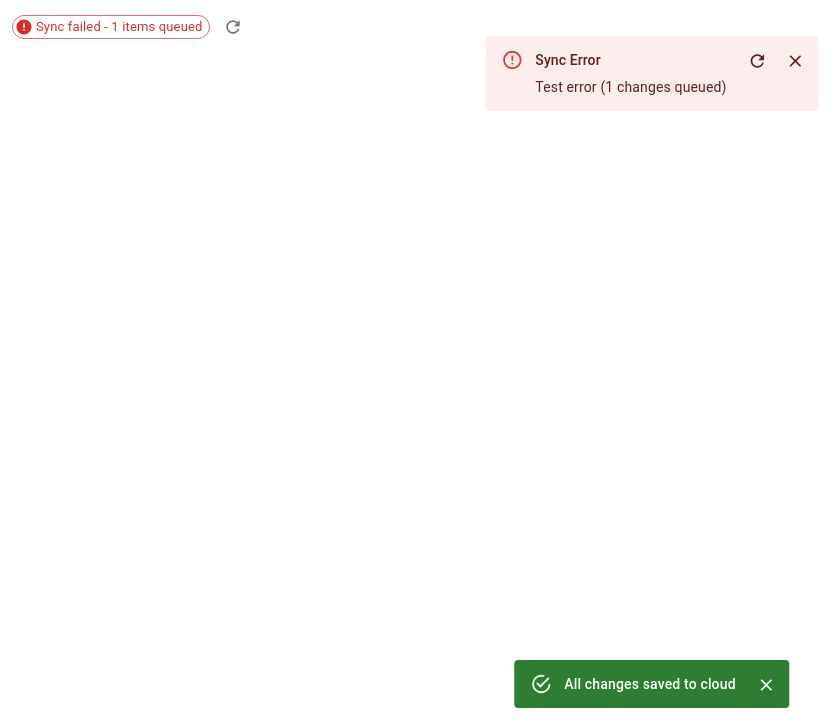
Test: SyncStatusIndicator › User Interactions › should dismiss error snackbar when close button is clicked
This screenshot has width=835, height=725.
Expected: the heading "Sync Error" is shown, [535,52,601,68]
Click the button named "Close" at (767,685), box [752,670,782,700]
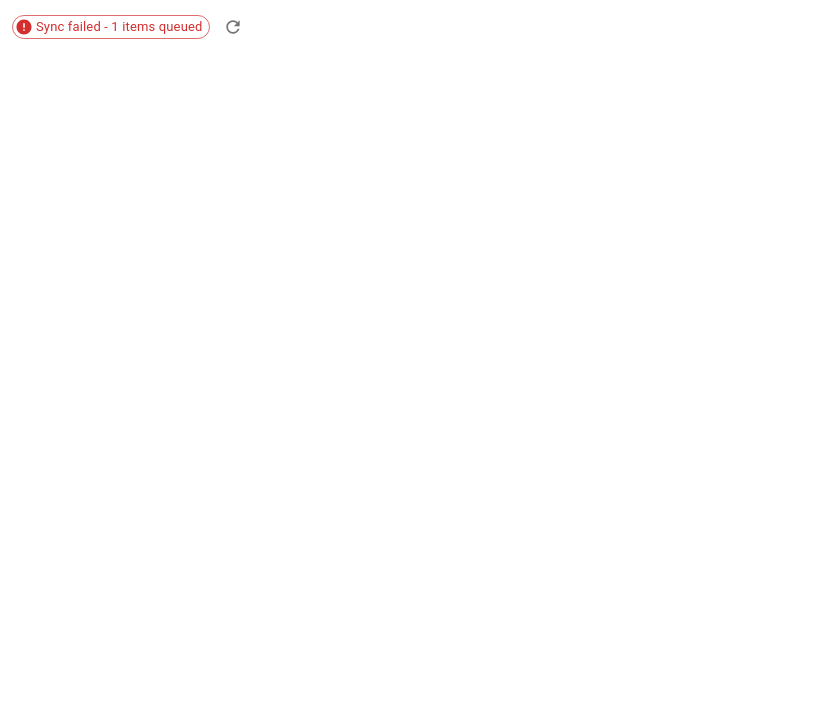
Expected: the heading "Sync Error" is gone
